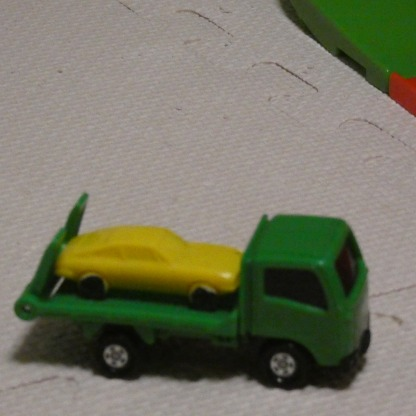car: (24, 190, 378, 392)
